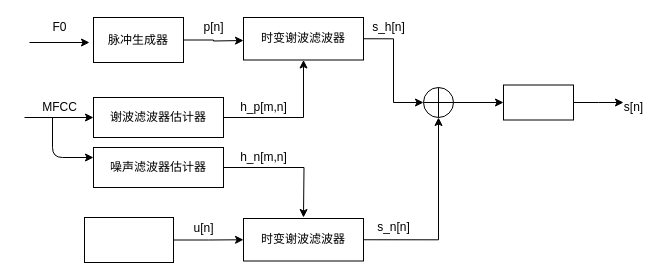
Image size: 666x280. Some labels were removed from this diagram. The centre of each missing label's shape, as x and y in pixels:
环境滤波: the point at 538,102
白噪声发生器: the point at 129,239
